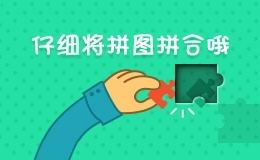target: (154, 44, 196, 84)
